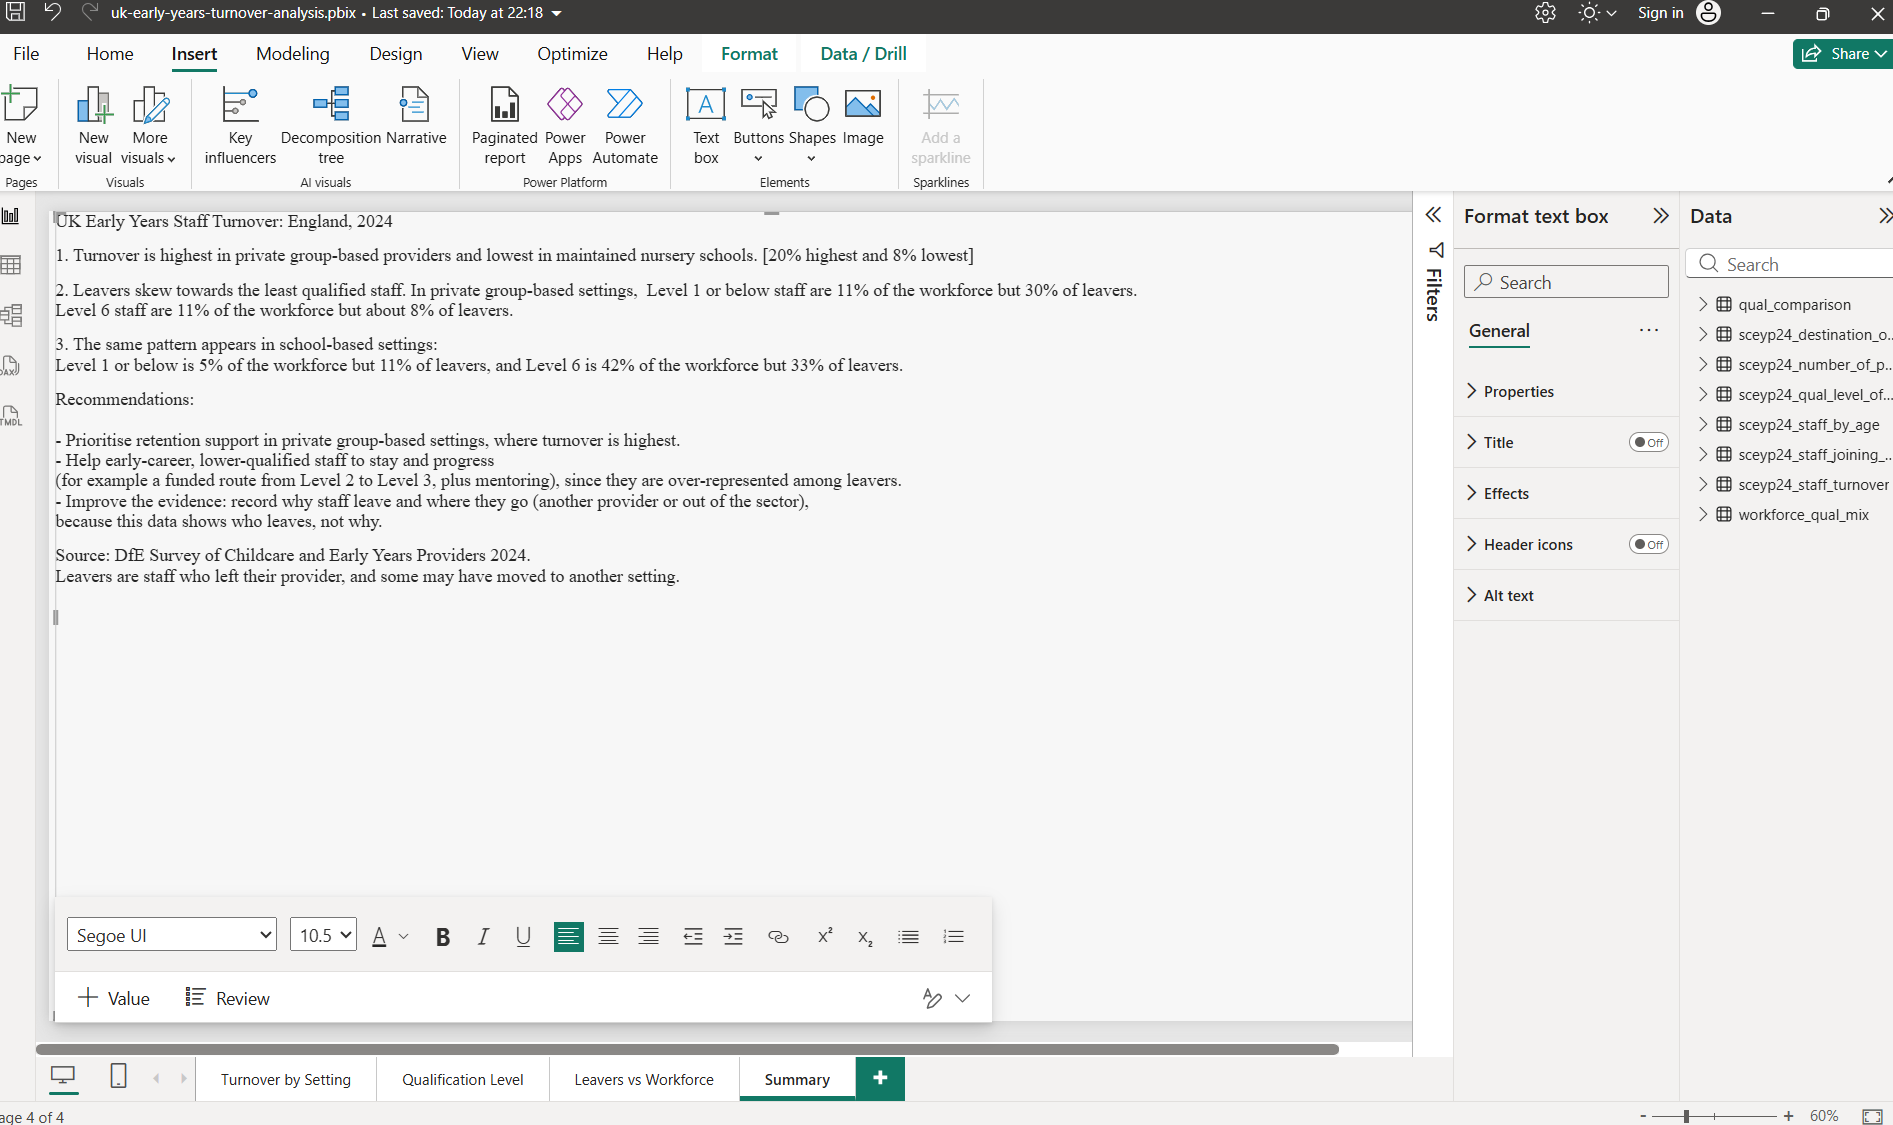

Layout of this report page (visuals, bound fields, positions):
{"tool":"powerbi","page":{"name":"Summary","canvas":[1920,1080],"ordinal":3},"visuals":[{"type":"textbox","box":[10,0,280,280],"z":0},{"type":"textbox","box":[8,0,1911.2,1081.8],"z":1}]}

Visuals, with their boxes on the page's 1920x1080 design canvas (x1, y1, x2, y2). These are canvas units, not pixel positions in the 1893x1125 screenshot, which may show the page scaled, cropped or inside an application window:
textbox: (x1=10, y1=0, x2=290, y2=280)
textbox: (x1=8, y1=0, x2=1919, y2=1082)
